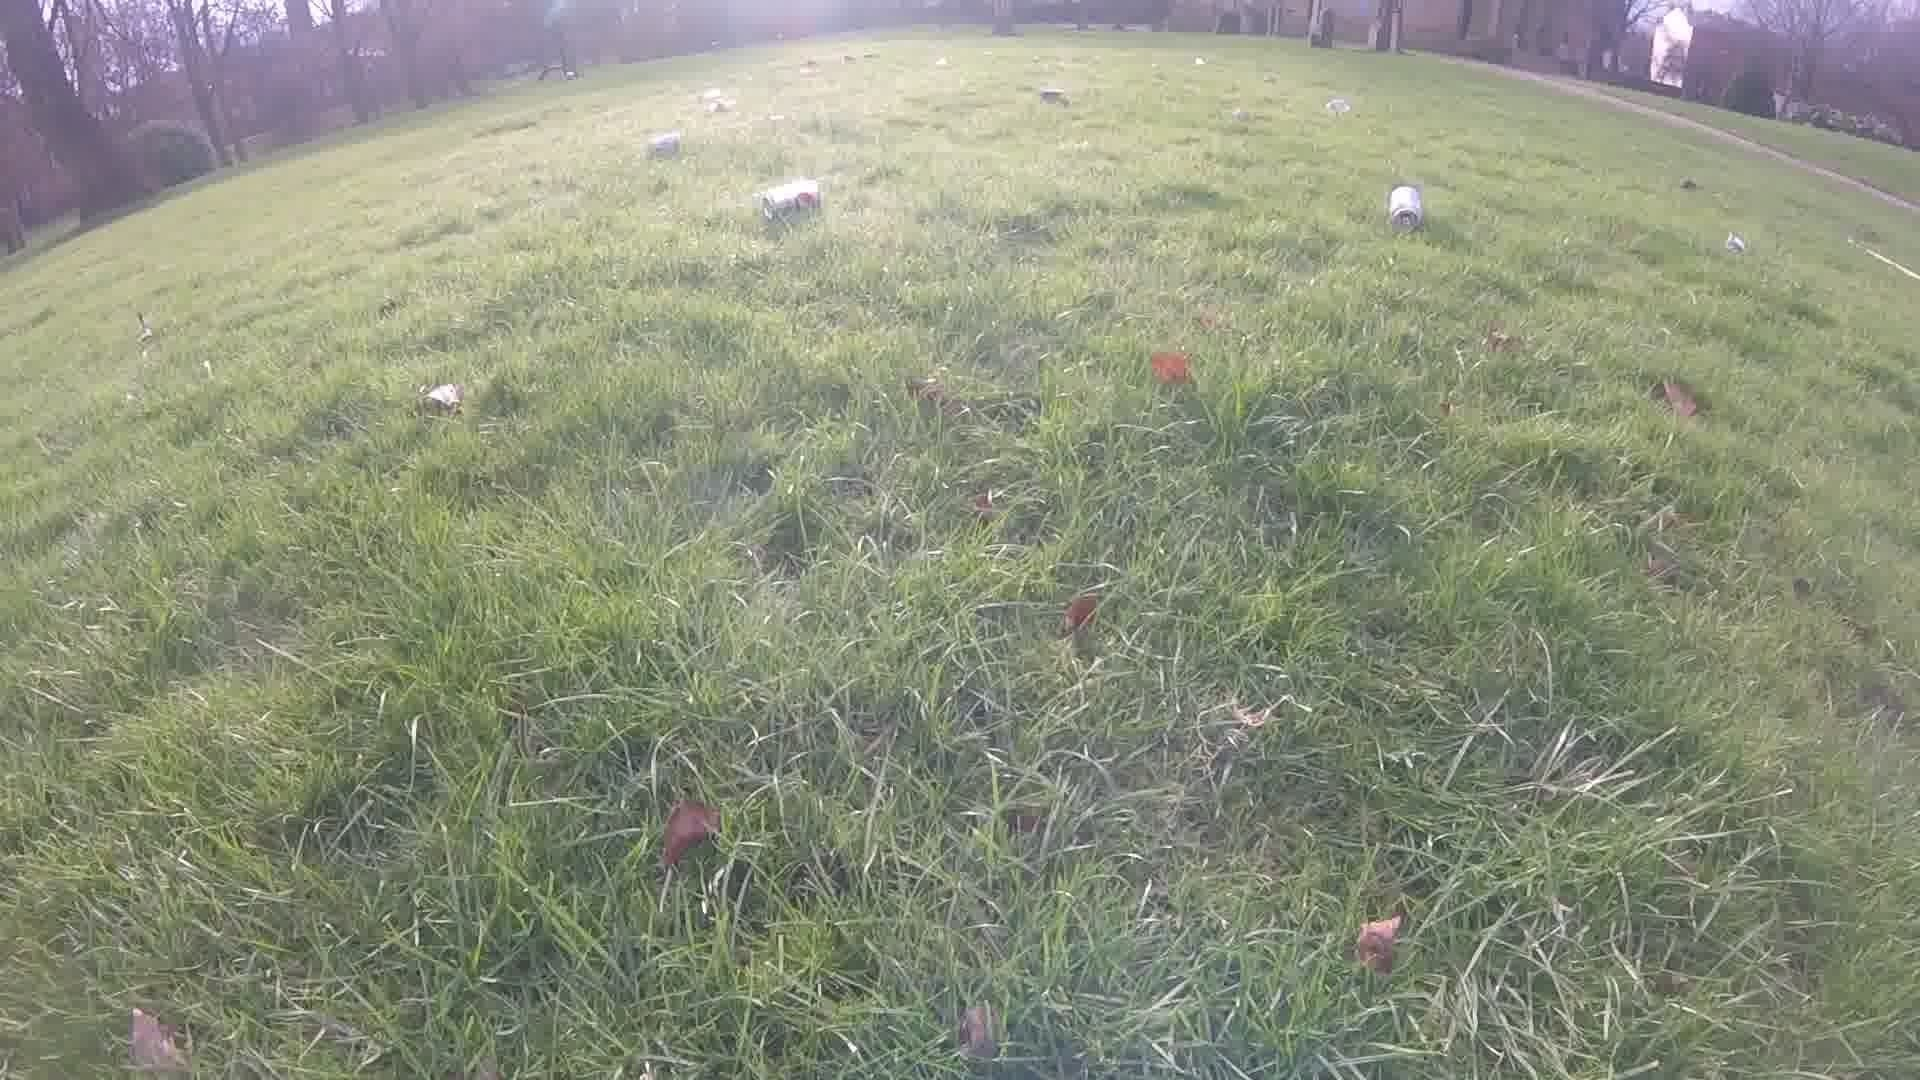litter: (760, 178, 822, 222), (1389, 183, 1427, 233), (640, 132, 682, 162), (698, 88, 735, 113), (1033, 84, 1065, 108), (1720, 235, 1753, 255), (1672, 178, 1706, 196), (791, 54, 822, 73), (841, 49, 881, 62), (1324, 102, 1354, 117), (931, 57, 952, 70), (1189, 53, 1211, 66)
